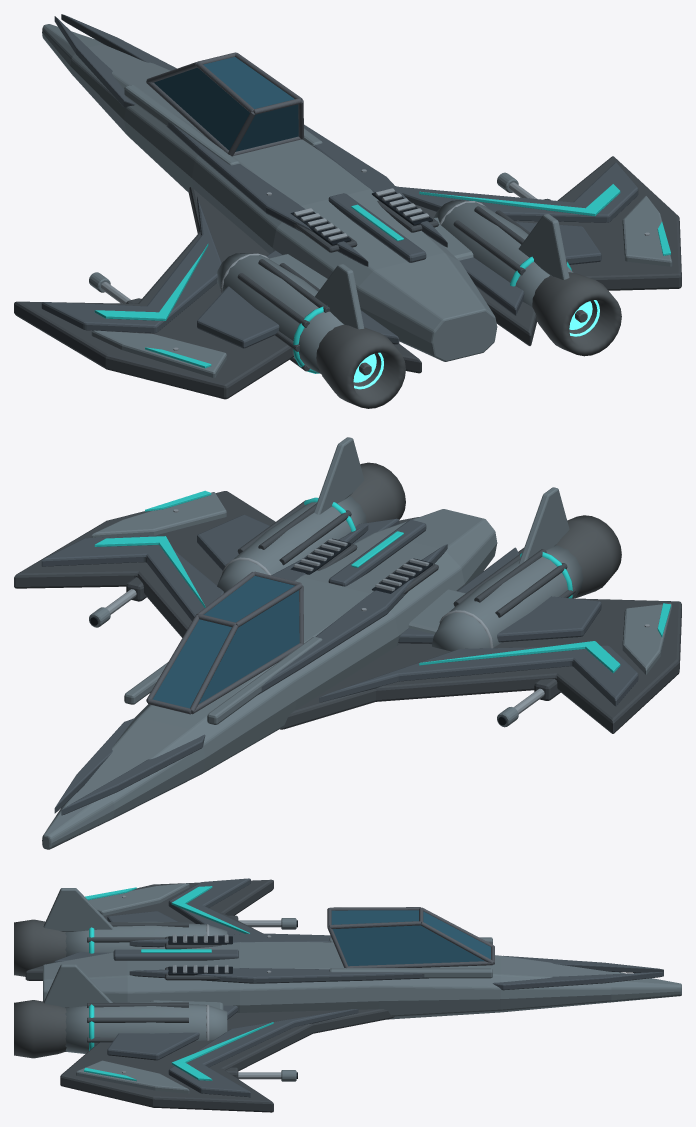
File: wraith.glb
3 views of the same model, one above another, from view 1: azimuth 30°, elevation 25°; view 2: azimuth 150°, elevation 25°; view 3: azimuth 270°, elevation 25° (orthographic). The views are drawn at different scales.
Parts seen in each view (by area): view 1: hull_secondary, hull_armor, structural, engine_nozzle, canopy, accent, cockpit_frame, gunmetal, engine_core, vent; view 2: hull_secondary, hull_armor, structural, canopy, engine_nozzle, accent, cockpit_frame, gunmetal, vent; view 3: hull_secondary, hull_armor, structural, canopy, engine_nozzle, accent, cockpit_frame, gunmetal, vent.
Boxes of the visible parts, box(x1,y1,x2,y2) form: hull_secondary: box(42, 24, 672, 377); hull_armor: box(41, 14, 638, 348); structural: box(14, 156, 681, 399); engine_nozzle: box(316, 272, 621, 408); canopy: box(154, 57, 298, 151); accent: box(94, 184, 670, 373); cockpit_frame: box(146, 52, 304, 156); gunmetal: box(101, 169, 649, 350); engine_core: box(353, 300, 599, 389); vent: box(290, 192, 432, 245); hull_secondary: box(42, 437, 672, 849); hull_armor: box(41, 514, 638, 815); structural: box(14, 491, 681, 733); canopy: box(153, 576, 299, 708); engine_nozzle: box(349, 462, 621, 598); accent: box(94, 490, 670, 673); cockpit_frame: box(146, 571, 303, 714); gunmetal: box(105, 509, 649, 714); vent: box(90, 538, 506, 725); hull_secondary: box(43, 883, 681, 1093); hull_armor: box(54, 878, 663, 1097); structural: box(25, 879, 394, 1112); canopy: box(331, 910, 490, 966); engine_nozzle: box(14, 919, 66, 1058); accent: box(84, 886, 273, 1081); cockpit_frame: box(327, 907, 494, 968); gunmetal: box(122, 895, 281, 1079); vent: box(168, 920, 297, 1078).
Size of the model in its own units: 4.56 by 1.01 by 5.76.
